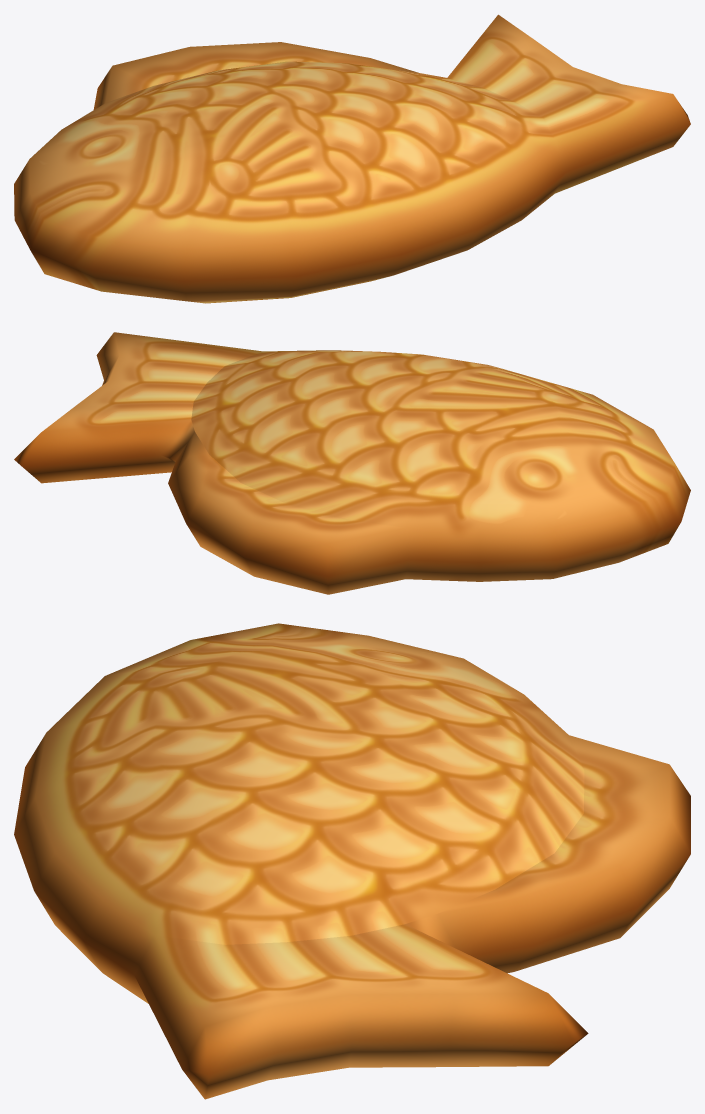
File: Taiyaki_01.fbx
3 renders of one model, top to bottom at view 1: azimuth 30°, elevation 25°; view 2: azimuth 150°, elevation 25°; view 3: azimuth 270°, elevation 25°, orthographic. The views are drawn at different scales.
Parts seen in each view (by area): view 1: Taiyaki_01; view 2: Taiyaki_01; view 3: Taiyaki_01.
Part boxes in pixels (x1=…): Taiyaki_01: x1=14, y1=14, x2=690, y2=303; Taiyaki_01: x1=14, y1=332, x2=690, y2=594; Taiyaki_01: x1=14, y1=623, x2=690, y2=1099.
Size of the model in its own units: 66.02 by 13.87 by 44.6.
